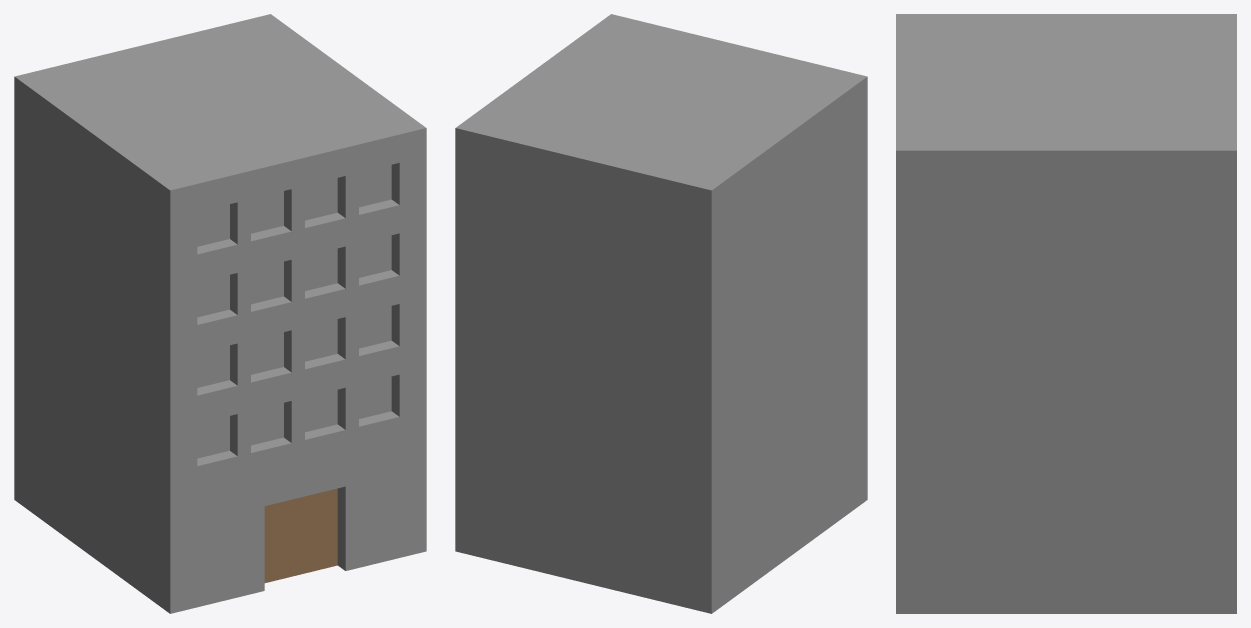
File: Building.fbx
3 renders of one model, left to right at view 1: azimuth 30°, elevation 25°; view 2: azimuth 150°, elevation 25°; view 3: azimuth 270°, elevation 25°, orthographic. The views are drawn at different scales.
Visible parts, largest first — view 1: Body1; view 2: Body1; view 3: Body1.
Part boxes in pixels (<box>): Body1: <box>14,14,426,613</box>; Body1: <box>455,14,867,613</box>; Body1: <box>896,14,1236,613</box>.
Bounding box in the file's own units: 190 × 300 × 200.
